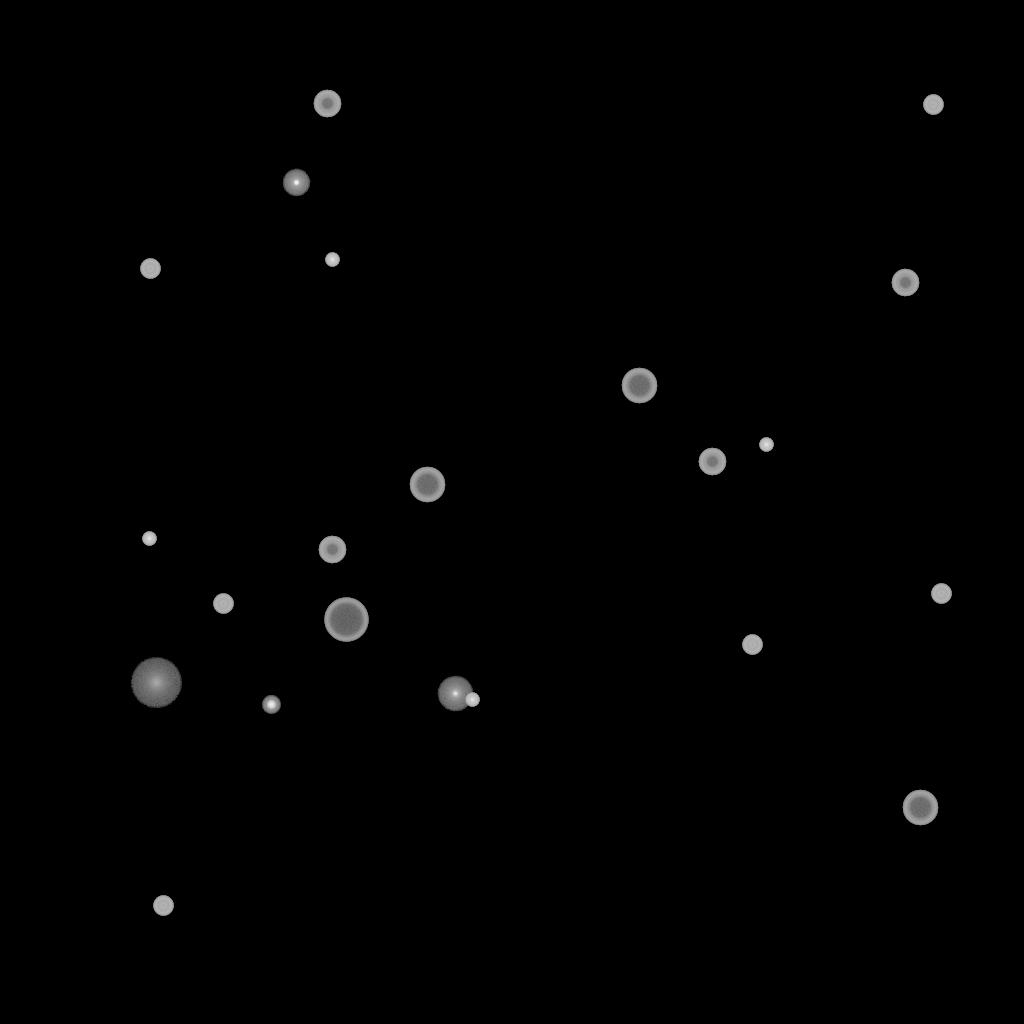depth:-10: (282, 169, 310, 197)
depth:-20: (262, 696, 280, 714)
depth:-30: (325, 253, 339, 267), (759, 438, 773, 452), (465, 693, 479, 707), (142, 532, 156, 546)
depth:-40: (742, 635, 762, 655), (140, 259, 160, 279), (931, 584, 951, 604), (923, 95, 943, 115), (213, 594, 233, 614), (153, 896, 173, 916)
depth:-50: (318, 536, 346, 564), (313, 90, 341, 118), (891, 269, 919, 297), (698, 448, 726, 476)
depth:-60: (409, 467, 445, 503), (621, 368, 657, 404), (902, 790, 938, 826)
depth:-70: (324, 598, 368, 642)
depth:0: (437, 676, 473, 712)
depth:20: (130, 658, 182, 708)
